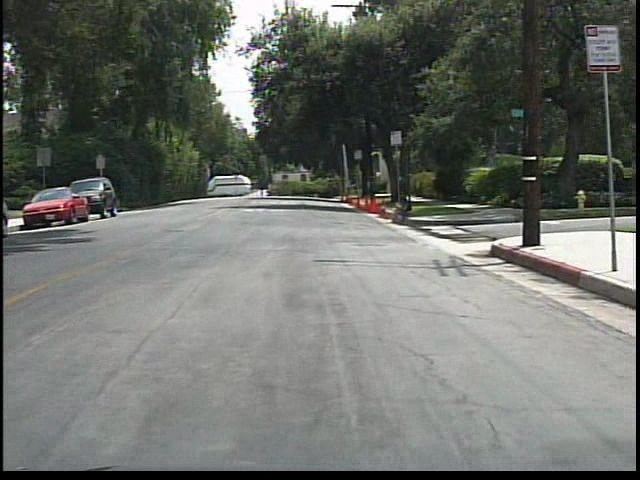person: (389, 190, 420, 227)
